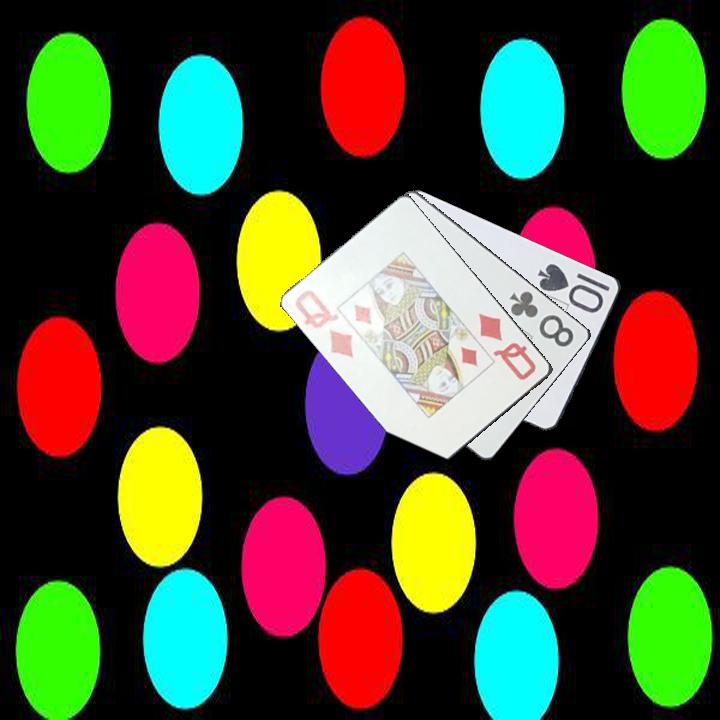8c: (506, 287, 577, 350)
Qd: (292, 286, 357, 361), (476, 310, 539, 383)
Ts: (534, 260, 613, 315)
